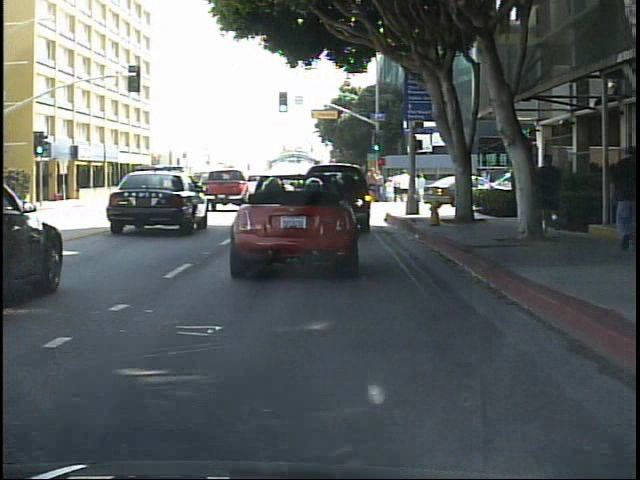person: (605, 141, 638, 260), (540, 147, 571, 237), (128, 175, 147, 202)
